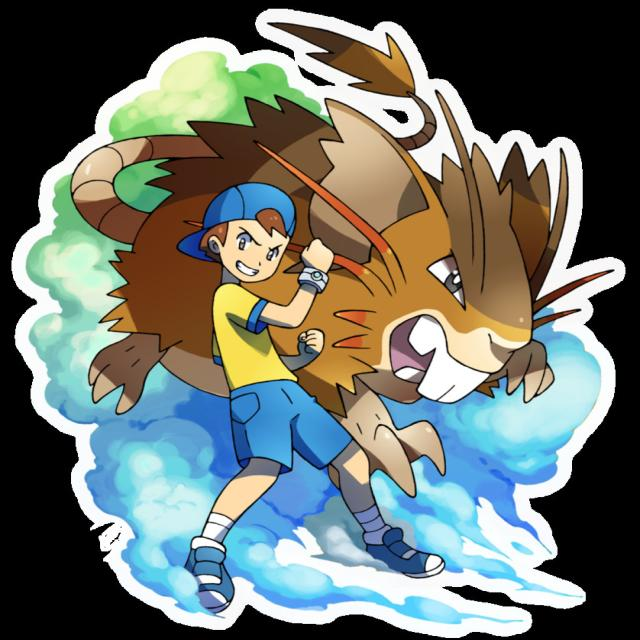Raticate: (109, 91, 549, 415)
